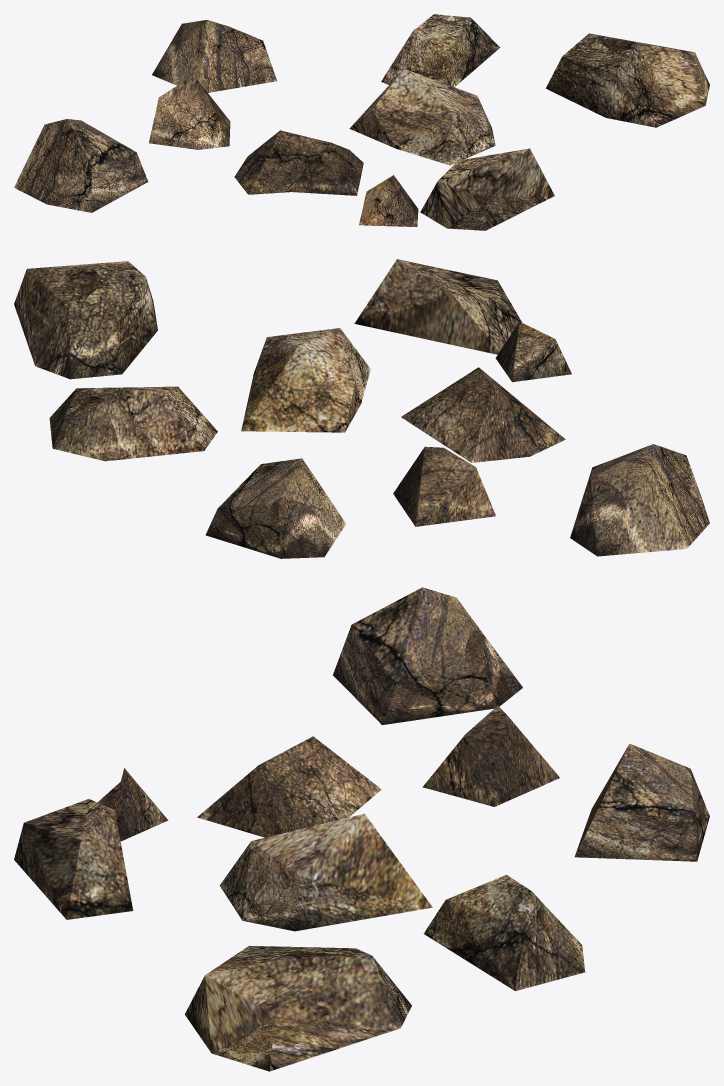
Rendered from rock_014_LOD1.dae.
3 views of the same model, one above another, from view 1: azimuth 30°, elevation 25°; view 2: azimuth 150°, elevation 25°; view 3: azimuth 270°, elevation 25° (orthographic). The views are drawn at different scales.
Visible parts, largest first — view 1: Mesh_Object; view 2: Mesh_Object; view 3: Mesh_Object.
Boxes of the visible parts, box(x1,y1,x2,y2) form: Mesh_Object: box(14, 14, 709, 230); Mesh_Object: box(14, 259, 709, 558); Mesh_Object: box(14, 587, 709, 1071).
Size of the model in its own units: 3.91 by 0.412 by 2.75.
